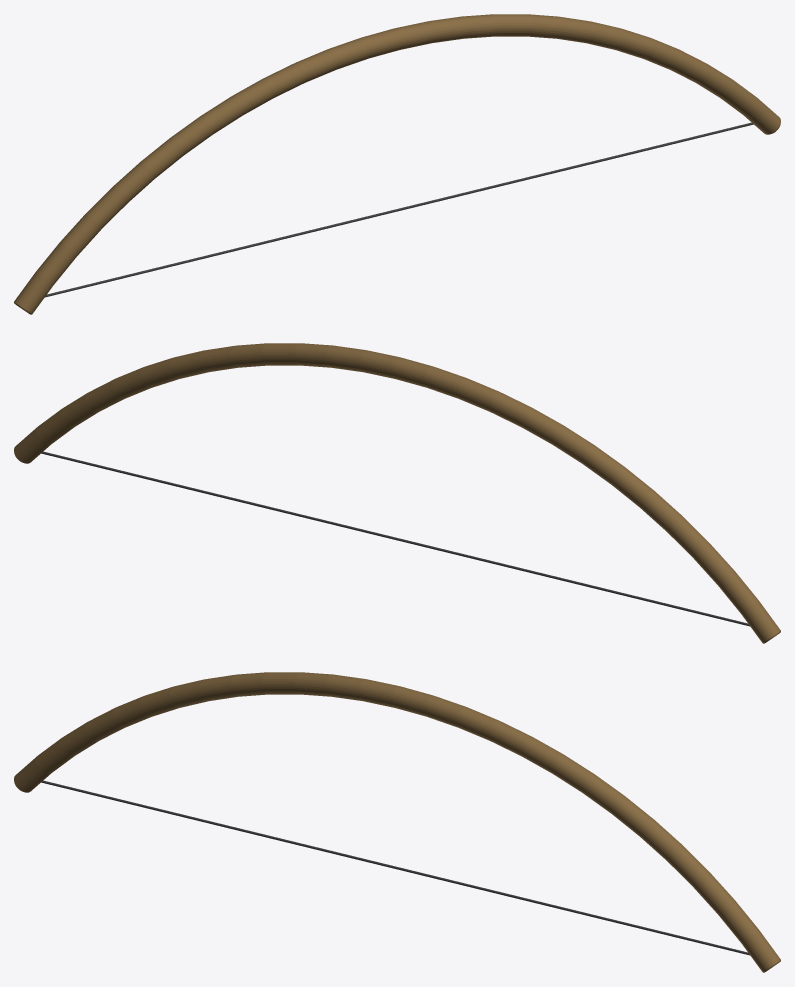
File: Bow1.fbx
3 renders of one model, top to bottom at view 1: azimuth 30°, elevation 25°; view 2: azimuth 150°, elevation 25°; view 3: azimuth 330°, elevation 25°, orthographic.
Parts seen in each view (by area): view 1: Цилиндр; view 2: Цилиндр; view 3: Цилиндр.
Part boxes in pixels (bbox=[...]): Цилиндр: bbox=[14, 14, 780, 314]; Цилиндр: bbox=[14, 343, 780, 643]; Цилиндр: bbox=[14, 672, 780, 972].
Size of the model in its own units: 1431 by 348 by 36.33.
